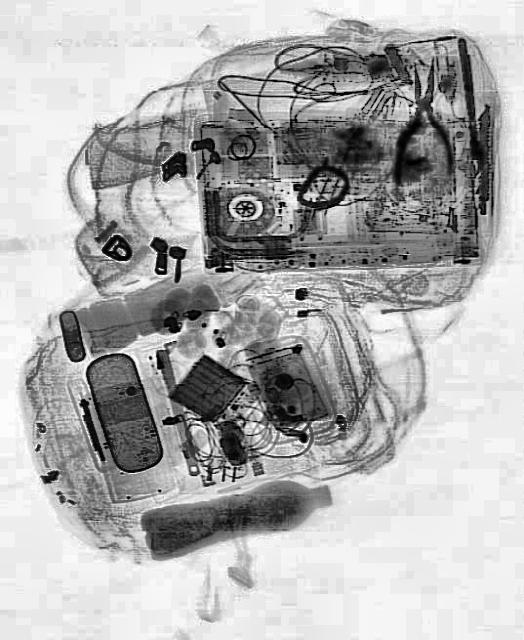Pliers: (392, 55, 454, 181)
